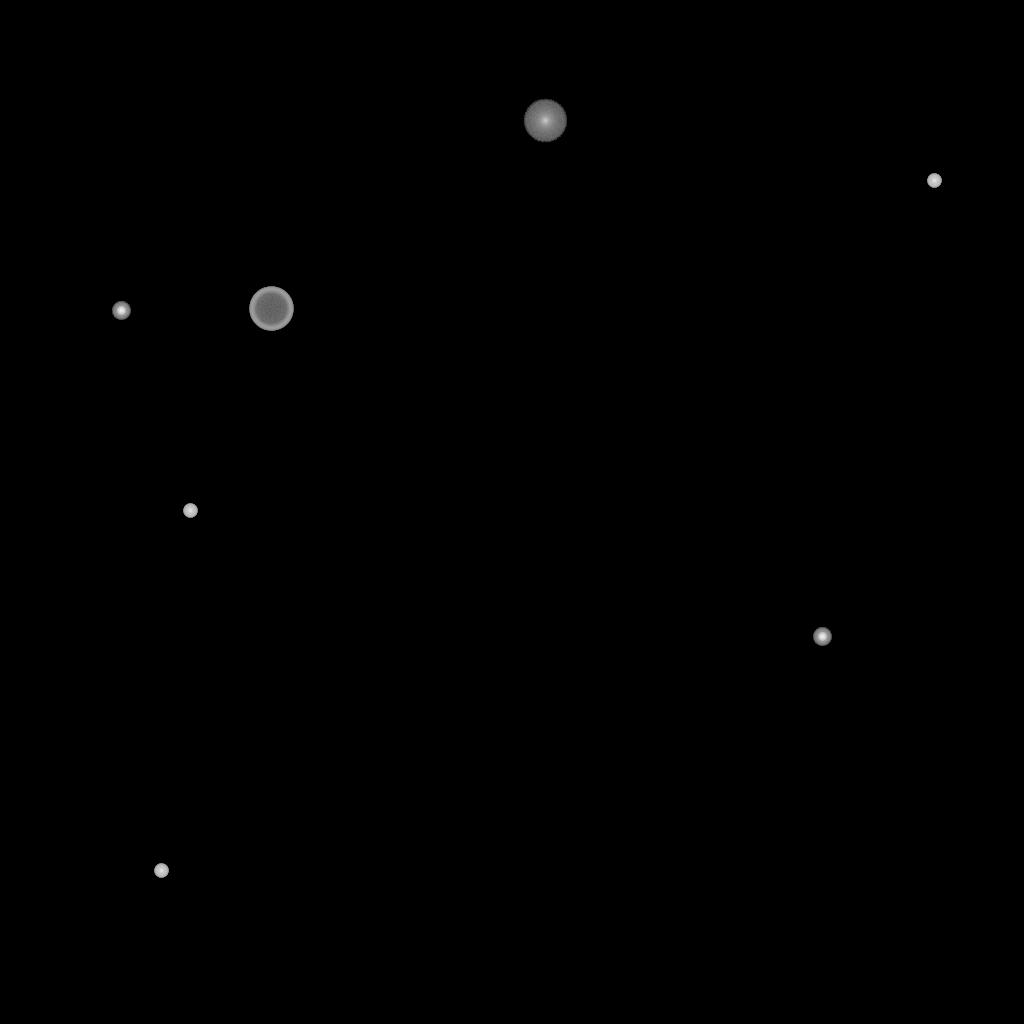depth:-20: (112, 302, 130, 320), (813, 628, 831, 646)
depth:-30: (183, 504, 197, 518), (927, 174, 941, 188), (154, 864, 168, 878)
depth:-70: (249, 287, 293, 331)
depth:10: (523, 99, 567, 143)
